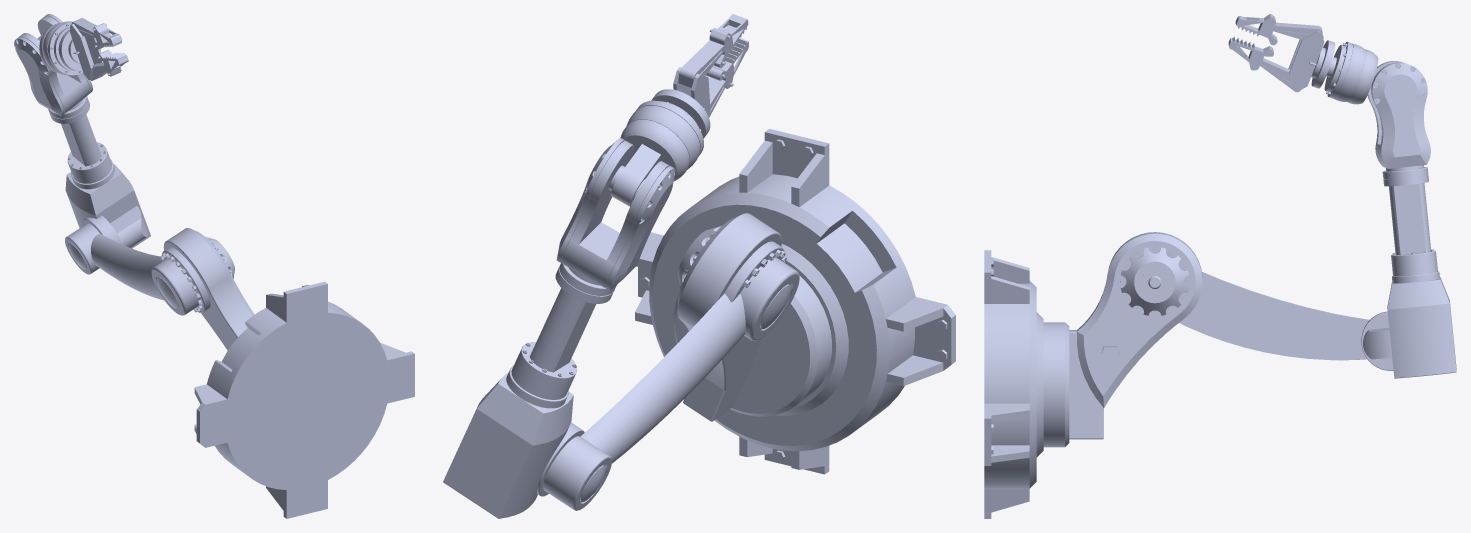
3 renders of one model, left to right at view 1: azimuth 30°, elevation 25°; view 2: azimuth 150°, elevation 25°; view 3: azimuth 270°, elevation 25°, orthographic. The views are drawn at different scales.
Parts seen in each view (by area): view 1: Part1, Link3a, Part3, Part2, Link3b, Part5, Part4, Part6, Part010; view 2: Part1, Link3a, Part2, Part3, Link3b, Part4, Part6, Part5, Part010; view 3: Part2, Part1, Link3a, Part3, Link3b, Part4, Part5, Part6, Part010.
Part boxes in pixels (x1,y1,x2,y2): Part1: [194, 281, 414, 518]; Link3a: [48, 96, 150, 248]; Part3: [65, 223, 210, 315]; Part2: [163, 228, 254, 350]; Link3b: [14, 14, 92, 116]; Part5: [58, 18, 103, 80]; Part4: [37, 21, 83, 75]; Part6: [71, 18, 122, 49]; Part010: [91, 49, 128, 80]; Part1: [635, 129, 955, 474]; Link3a: [443, 262, 616, 518]; Part2: [673, 213, 831, 421]; Part3: [543, 241, 799, 510]; Link3b: [556, 138, 675, 290]; Part4: [608, 100, 703, 206]; Part6: [678, 14, 748, 88]; Part5: [651, 67, 710, 138]; Part010: [706, 38, 748, 117]; Part2: [1043, 232, 1202, 447]; Part1: [984, 250, 1043, 518]; Link3a: [1361, 167, 1456, 378]; Part3: [1179, 272, 1369, 360]; Link3b: [1367, 61, 1430, 171]; Part4: [1324, 41, 1380, 104]; Part5: [1288, 31, 1335, 91]; Part6: [1235, 14, 1322, 45]; Part010: [1228, 37, 1300, 92].
Size of the model in its own units: 0.3905 by 0.716 by 0.6782.
